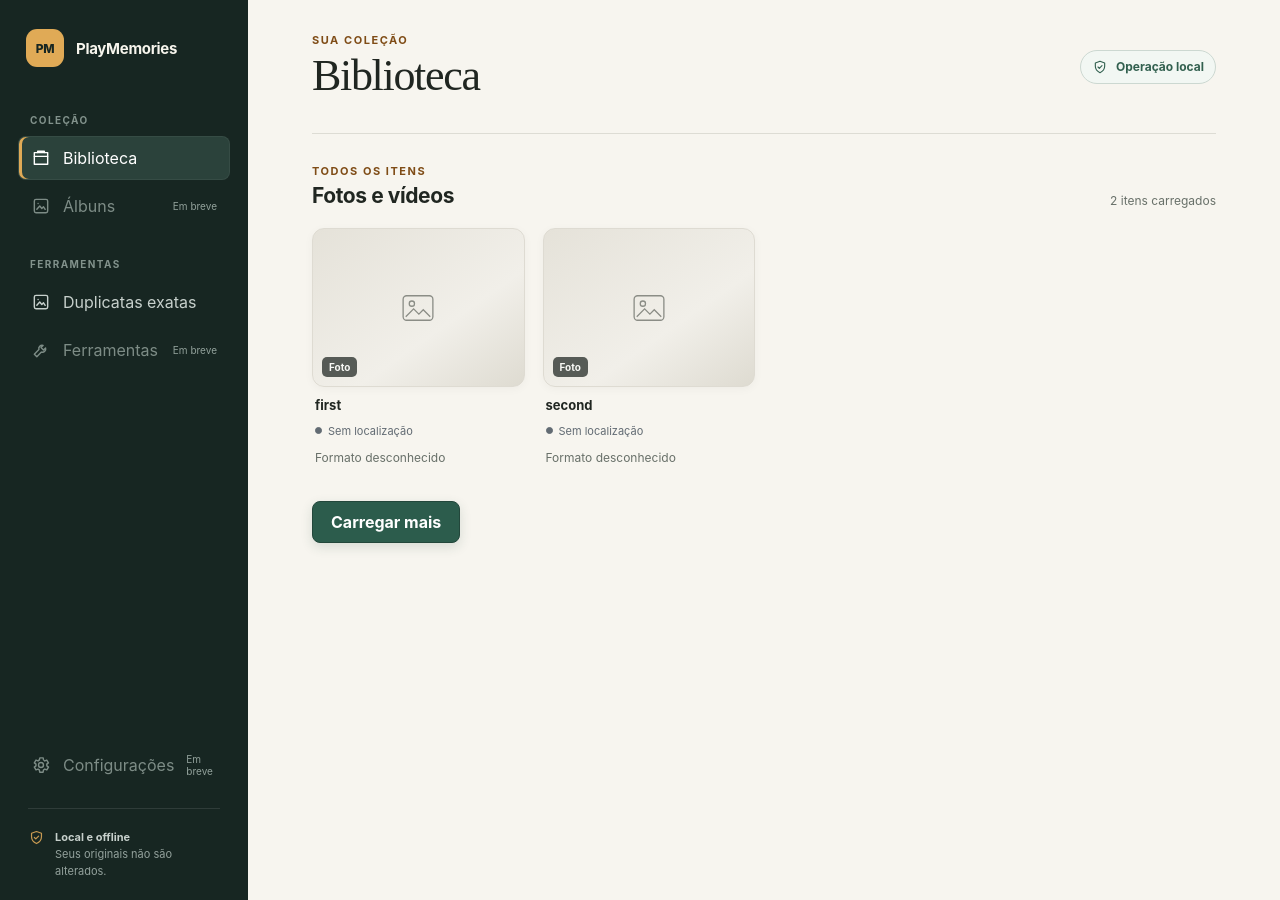
it: shows not-found without treating it as empty metadata
This screenshot has width=1280, height=900.
Click the button with class "card-select" showing "first" at {"x": 418, "y": 405}, box [315, 397, 522, 413]
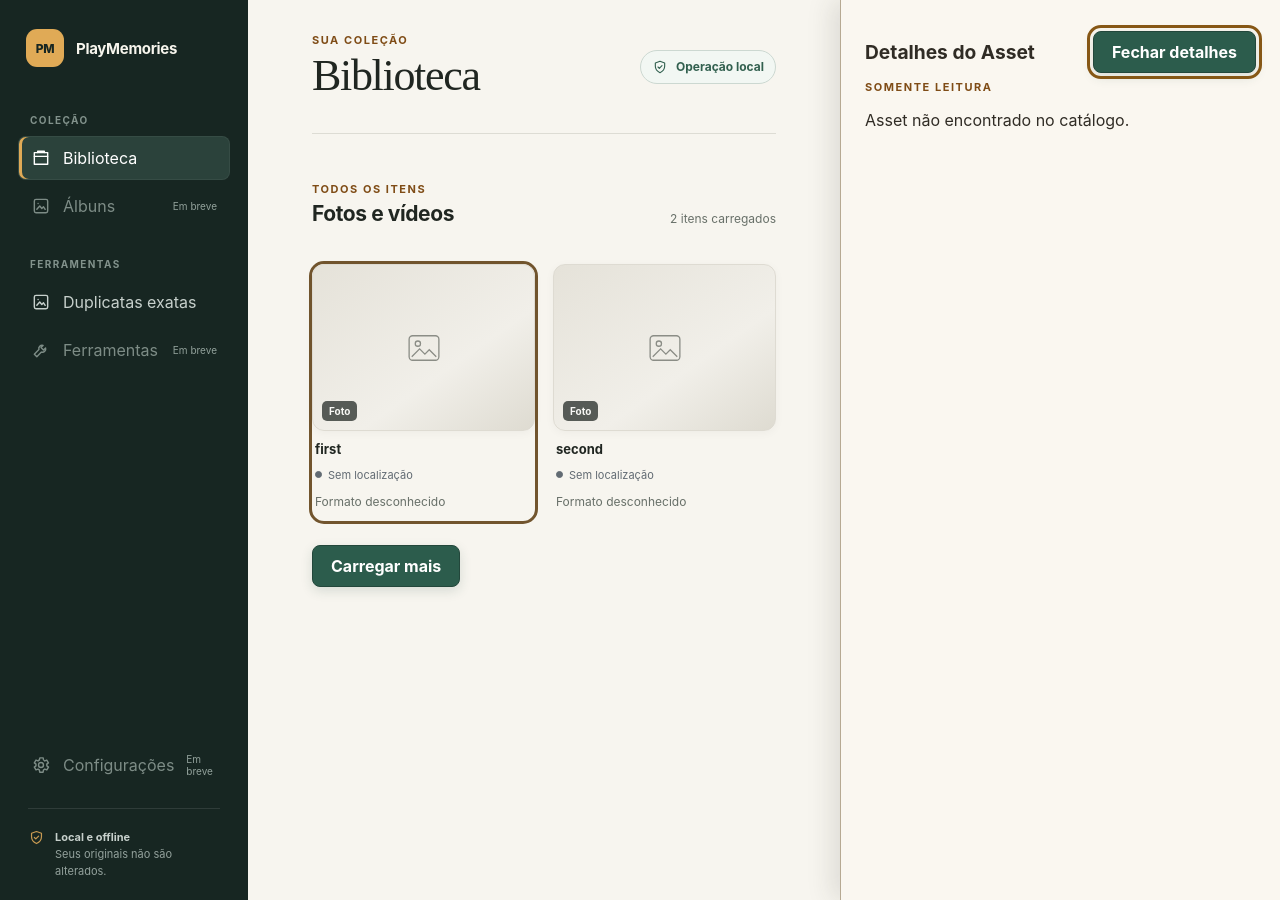
Result: the text "Asset não encontrado" is shown at [865, 110, 1129, 130]
